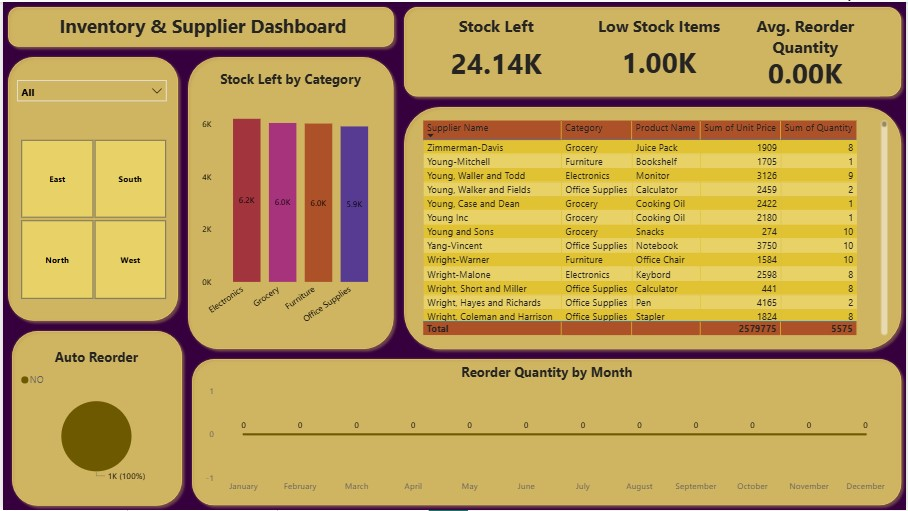

Layout of this report page (visuals, bound fields, positions):
{"tool":"powerbi","page":{"name":"Inventory & Suppler","canvas":[1280,720],"ordinal":1},"visuals":[{"type":"shape","box":[0,0,561,70.6],"z":0},{"type":"shape","box":[0,70.6,255.3,388],"z":1000},{"type":"textbox","box":[16.8,10.1,532.5,79],"z":2000},{"type":"slicer","fields":{"Values":["Store_Management_System.Category"]},"box":[10.1,100.8,231.8,87.3],"z":3000},{"type":"slicer","fields":{"Values":["Store_Management_System.Region"]},"box":[0,188.1,255.3,238.5],"z":4000},{"type":"shape","box":[561,0,719,141.1],"z":5000},{"type":"card","title":"Stock Left","fields":{"Values":["Sum(Store_Management_System.Stock Left)"]},"box":[574.5,18.5,250.3,104.1],"z":6000},{"type":"card","title":"Low Stock Items","fields":{"Values":["CountNonNull(Store_Management_System.Stock Left)"]},"box":[797.9,18.5,263.7,102.5],"z":7000},{"type":"card","title":"Avg. Reorder Quantity","fields":{"Values":["Avg(Store_Management_System.Reorder Quantity)"]},"box":[1016.3,18.5,241.9,102.5],"z":8000},{"type":"shape","box":[255.3,70.6,305.7,428.3],"z":9000},{"type":"shape","box":[5,458.6,255.3,262],"z":10000},{"type":"shape","box":[260.4,498.9,1019.6,221.7],"z":11000},{"type":"shape","box":[561,141.1,719,357.8],"z":12000},{"type":"pieChart","title":"Auto Reorder","fields":{"Category":["Store_Management_System.Auto Reorder"],"Y":["CountNonNull(Store_Management_System.Auto Reorder)"]},"box":[20.2,490.5,225.1,196.5],"z":13000},{"type":"lineChart","title":"Reorder Quantity by Month","fields":{"Category":["Store_Management_System.Ship Date.Variation.Date Hierarchy.Month"],"Y":["Sum(Store_Management_System.Reorder Quantity)"]},"box":[282.2,512.3,977.6,193.2],"z":14000},{"type":"columnChart","title":"Stock Left by Category ","fields":{"Category":["Store_Management_System.Category"],"Series":["Store_Management_System.Category"],"Y":["Sum(Store_Management_System.Stock Left)"]},"box":[270.4,95.7,273.8,381.3],"z":15000},{"type":"tableEx","fields":{"Values":["Store_Management_System.Supplier Name","Store_Management_System.Category","Store_Management_System.Product Name","Sum(Store_Management_System.Unit Price)","Sum(Store_Management_System.Quantity)"]},"box":[589.6,162.9,668.6,314.1],"z":16000}]}

Visuals, with their boxes in screenshot pixels (x1, y1, x2, y2), scaled from the page's 1280x720 canvas onto the 908x511 screenshot:
shape: [x1=0, y1=0, x2=398, y2=50]
shape: [x1=0, y1=50, x2=181, y2=325]
textbox: [x1=12, y1=7, x2=390, y2=63]
slicer - Store_Management_System.Category: [x1=7, y1=72, x2=172, y2=133]
slicer - Store_Management_System.Region: [x1=0, y1=133, x2=181, y2=303]
shape: [x1=398, y1=0, x2=907, y2=100]
"Stock Left" card: [x1=408, y1=13, x2=585, y2=87]
"Low Stock Items" card: [x1=566, y1=13, x2=753, y2=86]
"Avg. Reorder Quantity" card: [x1=721, y1=13, x2=893, y2=86]
shape: [x1=181, y1=50, x2=398, y2=354]
shape: [x1=4, y1=325, x2=185, y2=510]
shape: [x1=185, y1=354, x2=907, y2=510]
shape: [x1=398, y1=100, x2=907, y2=354]
"Auto Reorder" pieChart: [x1=14, y1=348, x2=174, y2=488]
"Reorder Quantity by Month" lineChart: [x1=200, y1=364, x2=894, y2=501]
"Stock Left by Category " columnChart: [x1=192, y1=68, x2=386, y2=339]
tableEx - Store_Management_System.Supplier Name x Store_Management_System.Category: [x1=418, y1=116, x2=893, y2=339]
